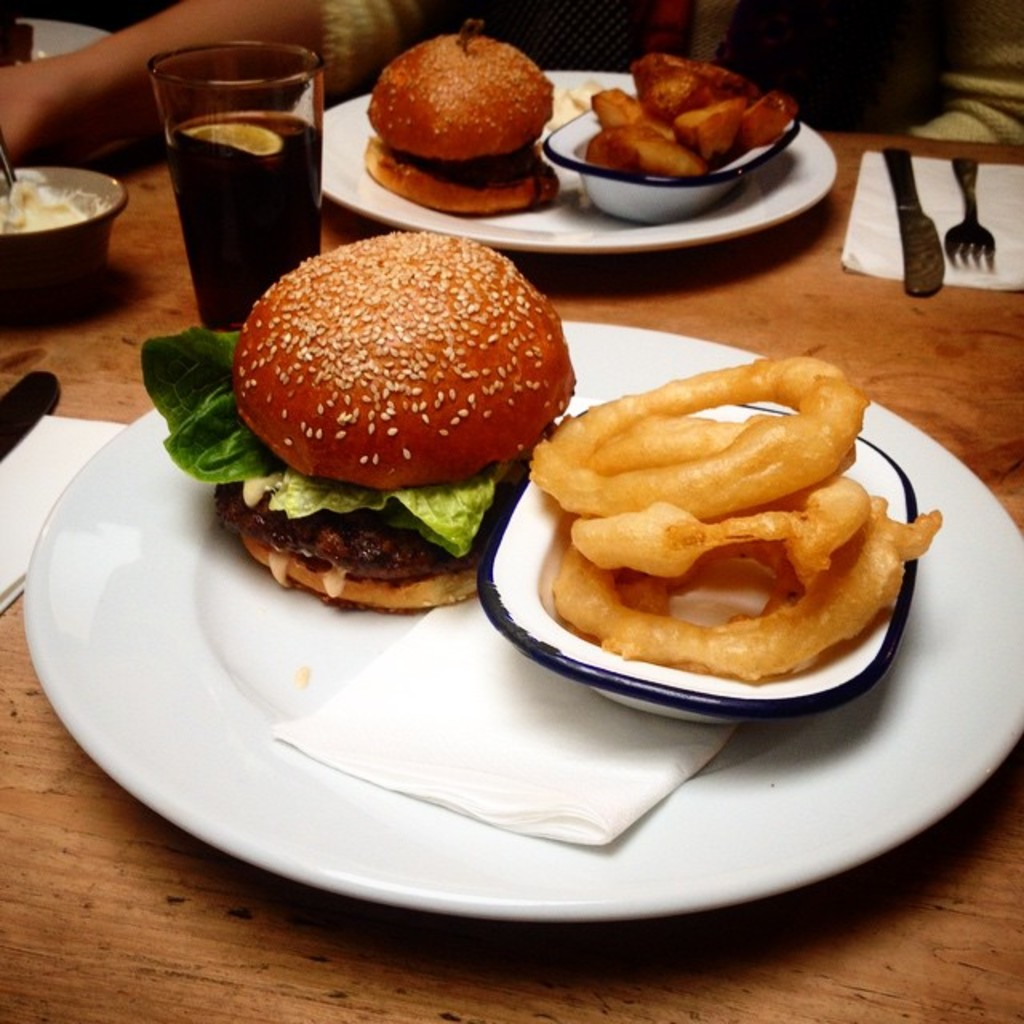Hamburger: (139, 227, 571, 611), (361, 36, 556, 211)
